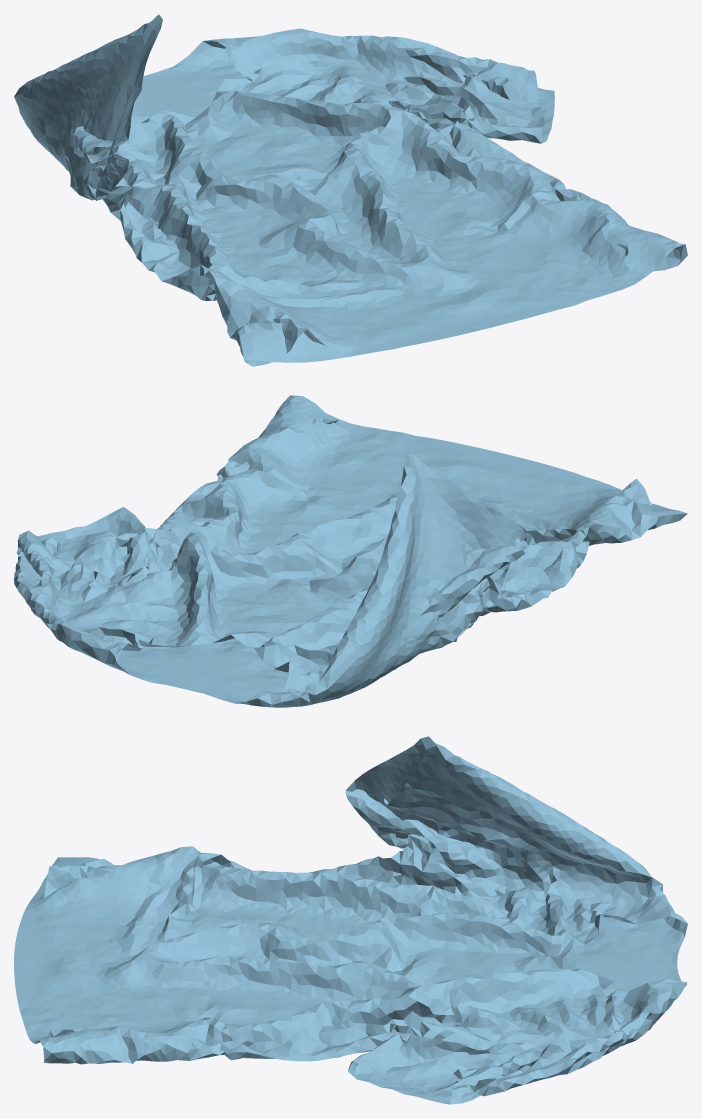
Rendered from frame_12.glb.
The picture shows the model from 3 angles, top to bottom: view 1: azimuth 30°, elevation 25°; view 2: azimuth 150°, elevation 25°; view 3: azimuth 270°, elevation 25°; orthographic projection. The views are drawn at different scales.
Parts seen in each view (by area): view 1: frame_12.obj; view 2: frame_12.obj; view 3: frame_12.obj.
Boxes of the visible parts, box(x1,y1,x2,y2) form: frame_12.obj: box(14, 14, 687, 366); frame_12.obj: box(14, 395, 687, 707); frame_12.obj: box(14, 736, 687, 1104).
Size of the model in its own units: 1.47 by 0.5202 by 1.73.
